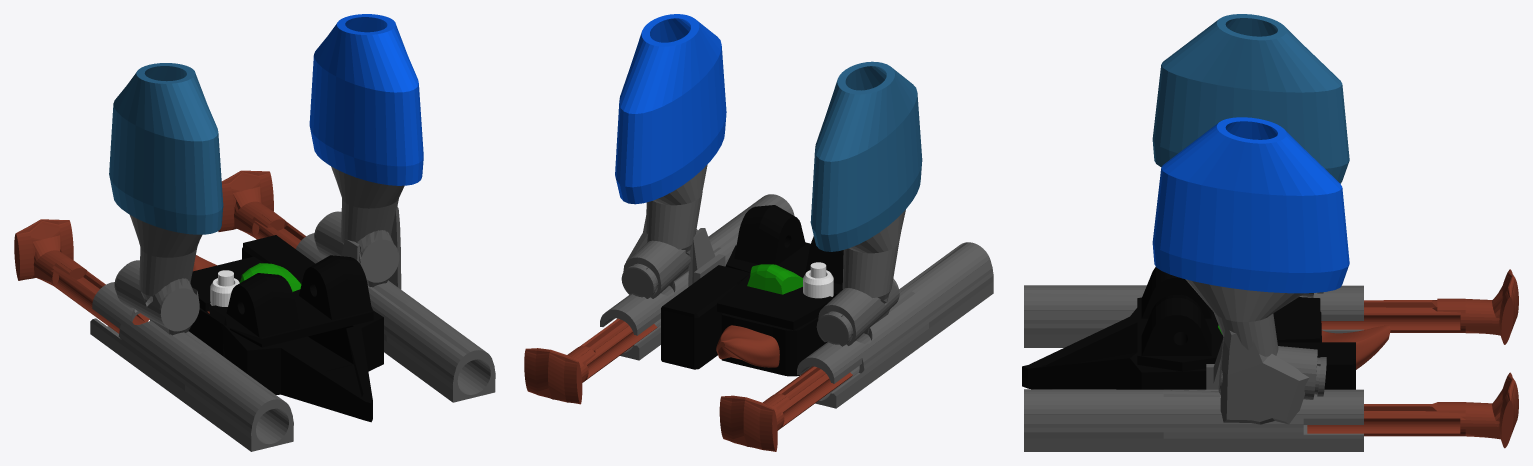
File: avaruusaluspeli-1-24-tykki.fbx
3 renders of one model, left to right at view 1: azimuth 30°, elevation 25°; view 2: azimuth 150°, elevation 25°; view 3: azimuth 270°, elevation 25°, orthographic. The views are drawn at different scales.
Parts seen in each view (by area): view 1: Cylinder.026, Cylinder.027, Cylinder.022, Cube.026, Cylinder.029, Cylinder.021, Cube.008, Cylinder.028, Cube.027, Cube.030, Cylinder.025, Cylinder.034 (+6 smaller); view 2: Cylinder.026, Cylinder.027, Cylinder.022, Cube.031, Cylinder.021, Cylinder.028, Cube.008, Cylinder.029, Cube.027, Cylinder.025, Cylinder.030, Cube.026 (+9 smaller); view 3: Cylinder.026, Cylinder.027, Cylinder.029, Cylinder.022, Cube.026, Cylinder.028, Cylinder.021, Plane.001, Cylinder.030, Cube.008, Cube.027, Cube.031 (+3 smaller).
Part boxes in pixels (bbox=[...]): Cylinder.026: bbox=[309, 14, 423, 185]; Cylinder.027: bbox=[109, 63, 223, 234]; Cylinder.022: bbox=[90, 282, 293, 451]; Cube.026: bbox=[189, 307, 383, 422]; Cylinder.029: bbox=[296, 233, 495, 402]; Cylinder.021: bbox=[14, 219, 149, 333]; Cube.008: bbox=[190, 256, 373, 347]; Cylinder.028: bbox=[218, 170, 305, 248]; Cube.027: bbox=[299, 255, 371, 319]; Cube.030: bbox=[226, 273, 299, 337]; Cylinder.025: bbox=[130, 215, 202, 302]; Cylinder.034: bbox=[116, 260, 199, 335]; Cylinder.026: bbox=[615, 14, 726, 204]; Cylinder.027: bbox=[810, 61, 922, 251]; Cylinder.022: bbox=[797, 242, 993, 408]; Cube.031: bbox=[661, 265, 749, 369]; Cylinder.021: bbox=[719, 366, 852, 451]; Cylinder.028: bbox=[524, 318, 657, 404]; Cube.008: bbox=[717, 242, 842, 330]; Cylinder.029: bbox=[600, 194, 794, 360]; Cube.027: bbox=[734, 205, 805, 265]; Cylinder.025: bbox=[842, 209, 905, 302]; Cylinder.030: bbox=[646, 164, 707, 253]; Cube.026: bbox=[721, 313, 827, 376]; Cylinder.026: bbox=[1152, 117, 1349, 293]; Cylinder.027: bbox=[1152, 14, 1349, 183]; Cylinder.029: bbox=[1024, 389, 1363, 451]; Cylinder.022: bbox=[1024, 285, 1363, 347]; Cube.026: bbox=[1022, 308, 1321, 389]; Cylinder.028: bbox=[1307, 372, 1518, 448]; Cylinder.021: bbox=[1321, 269, 1518, 344]; Plane.001: bbox=[1220, 330, 1309, 424]; Cylinder.030: bbox=[1185, 279, 1304, 356]; Cube.008: bbox=[1137, 297, 1320, 371]; Cube.027: bbox=[1141, 294, 1211, 355]; Cube.031: bbox=[1277, 342, 1355, 389].
Size of the model in its own units: 1326 by 1416 by 2028.
